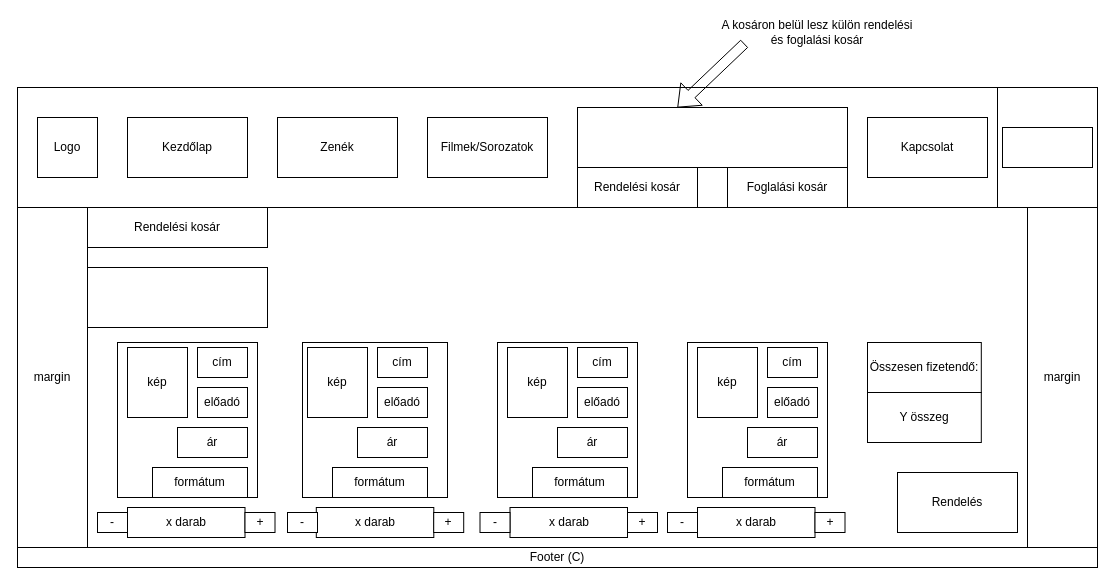
The diagram is 1115 pixels wide and 585 high, and some of its shapes have lost their labels. Here are the shapes that lost their labels. From the top down, the centre of each, then its label:
point 712,137: Kosár
point 1047,147: Fiók bej/reg
point 177,297: Megrendelni kívánt termékek:
